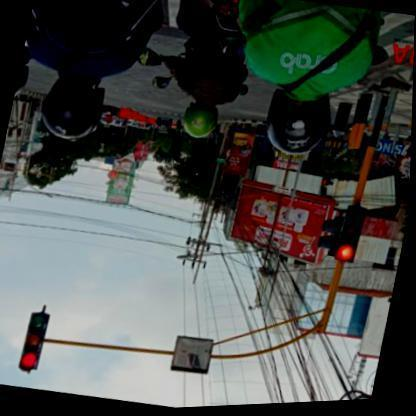red: (18, 307, 55, 377), (338, 206, 368, 266)
